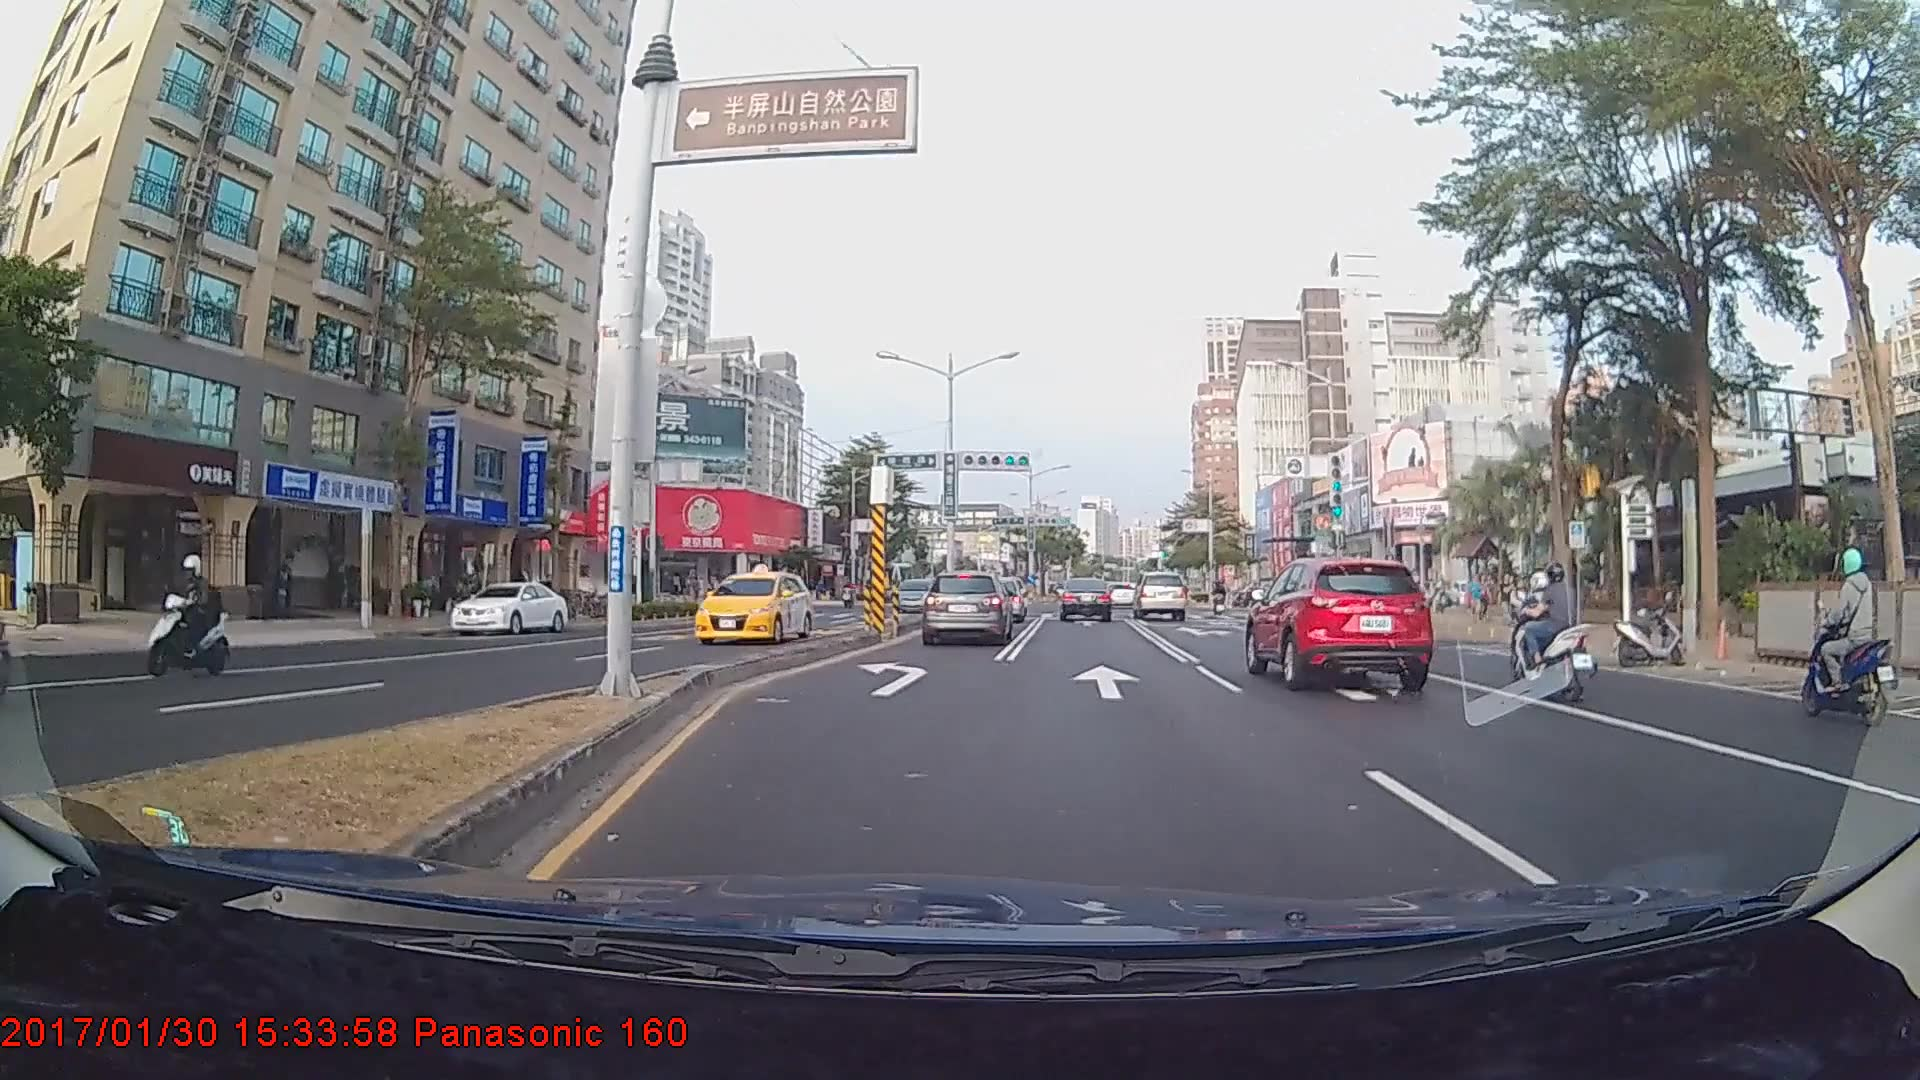rider: (1797, 548, 1905, 734), (1509, 563, 1602, 707), (146, 558, 239, 686)
vehicle: (1246, 550, 1432, 687), (698, 567, 815, 647), (921, 570, 1012, 646), (452, 582, 568, 639), (1132, 570, 1187, 621), (1056, 576, 1111, 623)
